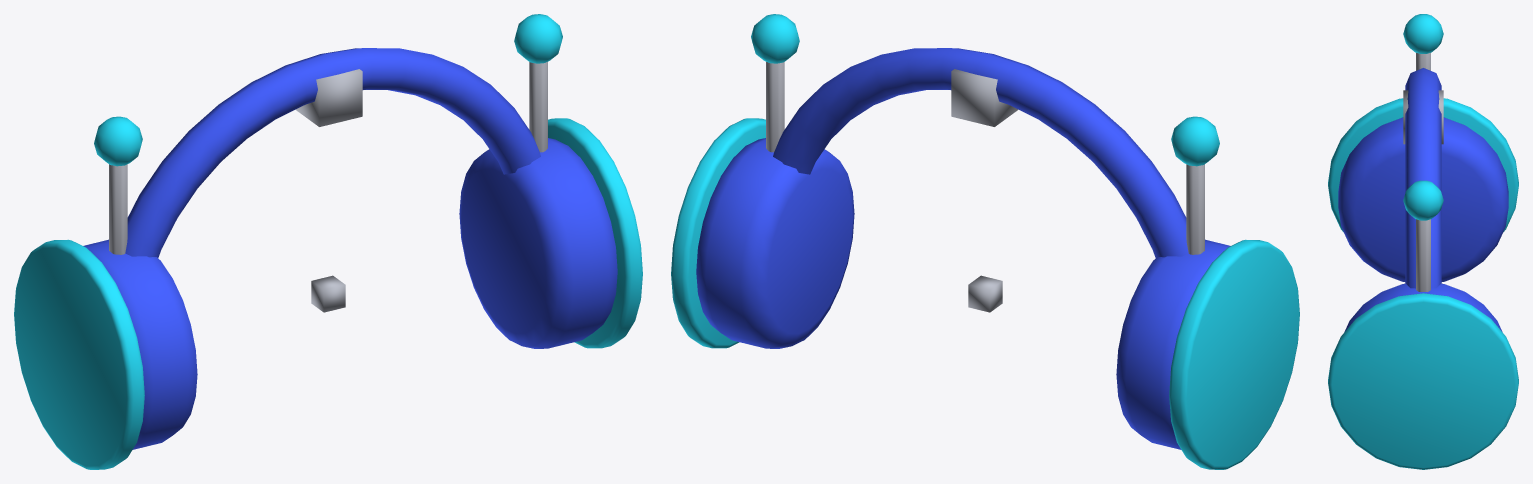
Rendered from Brilliant.fbx.
3 views of the same model, side by side, from view 1: azimuth 30°, elevation 25°; view 2: azimuth 150°, elevation 25°; view 3: azimuth 270°, elevation 25° (orthographic). The views are drawn at different scales.
Visible parts, largest first — view 1: Blue, Pulse_Ring-1, Pulse_Ring1, Silver, FXPoint_Sparkle, Pulse_AntTip1, Pulse_AntTip-1, KitOrigin; view 2: Blue, Pulse_Ring-1, Pulse_Ring1, Silver, FXPoint_Sparkle, Pulse_AntTip1, Pulse_AntTip-1, KitOrigin; view 3: Pulse_Ring1, Blue, Pulse_Ring-1, Silver, Pulse_AntTip1, Pulse_AntTip-1, FXPoint_Sparkle.
Boxes of the visible parts, bbox=[...] form: Blue: bbox=[83, 48, 617, 449]; Pulse_Ring-1: bbox=[14, 239, 144, 469]; Pulse_Ring1: bbox=[548, 118, 642, 348]; Silver: bbox=[109, 62, 547, 254]; FXPoint_Sparkle: bbox=[295, 69, 362, 126]; Pulse_AntTip1: bbox=[514, 14, 562, 63]; Pulse_AntTip-1: bbox=[94, 116, 142, 166]; KitOrigin: bbox=[311, 275, 345, 312]; Blue: bbox=[696, 48, 1230, 449]; Pulse_Ring-1: bbox=[1169, 239, 1299, 469]; Pulse_Ring1: bbox=[671, 118, 765, 348]; Silver: bbox=[766, 62, 1204, 254]; FXPoint_Sparkle: bbox=[951, 69, 1018, 126]; Pulse_AntTip1: bbox=[751, 14, 799, 63]; Pulse_AntTip-1: bbox=[1171, 116, 1219, 166]; KitOrigin: bbox=[968, 275, 1002, 312]; Pulse_Ring1: bbox=[1328, 293, 1518, 469]; Blue: bbox=[1338, 68, 1508, 331]; Pulse_Ring-1: bbox=[1328, 98, 1518, 231]; Silver: bbox=[1416, 53, 1430, 291]; Pulse_AntTip1: bbox=[1403, 180, 1443, 220]; Pulse_AntTip-1: bbox=[1403, 14, 1443, 53]; FXPoint_Sparkle: bbox=[1403, 90, 1443, 144].
Size of the model in its own units: 2.38 by 1.53 by 0.94.
